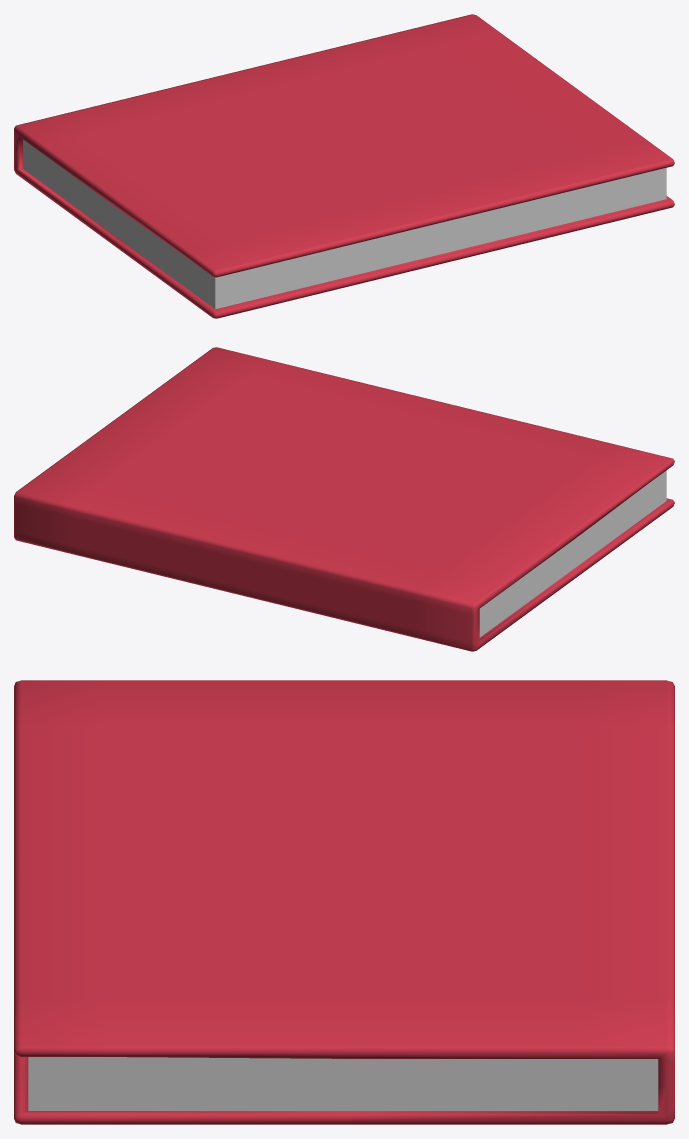
File: Book.fbx
3 renders of one model, top to bottom at view 1: azimuth 30°, elevation 25°; view 2: azimuth 150°, elevation 25°; view 3: azimuth 270°, elevation 25°, orthographic. The views are drawn at different scales.
Parts seen in each view (by area): view 1: Book; view 2: Book; view 3: Book.
Part boxes in pixels (x1,y1,x2,y2): Book: [14, 14, 674, 318]; Book: [14, 347, 674, 651]; Book: [14, 680, 674, 1124].
Bounding box in the file's own units: 43.04 × 4.29 × 32.57.
